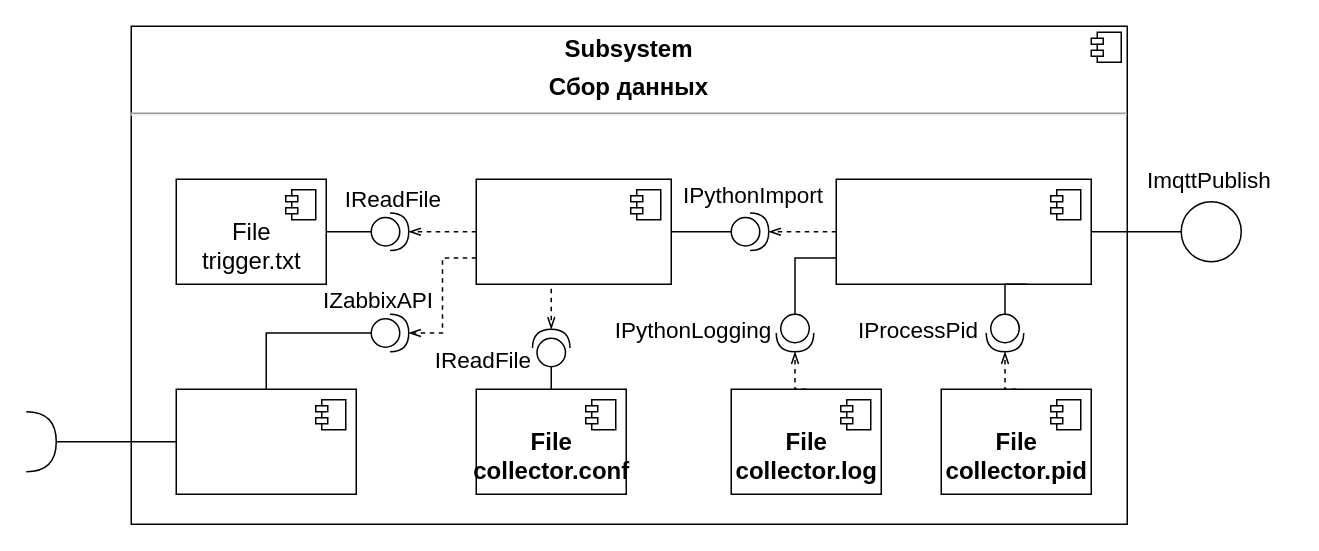
Image size: 1319x551. Some labels were removed from this diagram. The centre of each missing label's shape, as x and y in pixels:
Component Collector.py: (573,231)
Component CollectorDaemon.py: (963,231)
Component Zabbix-Server: (265,441)
